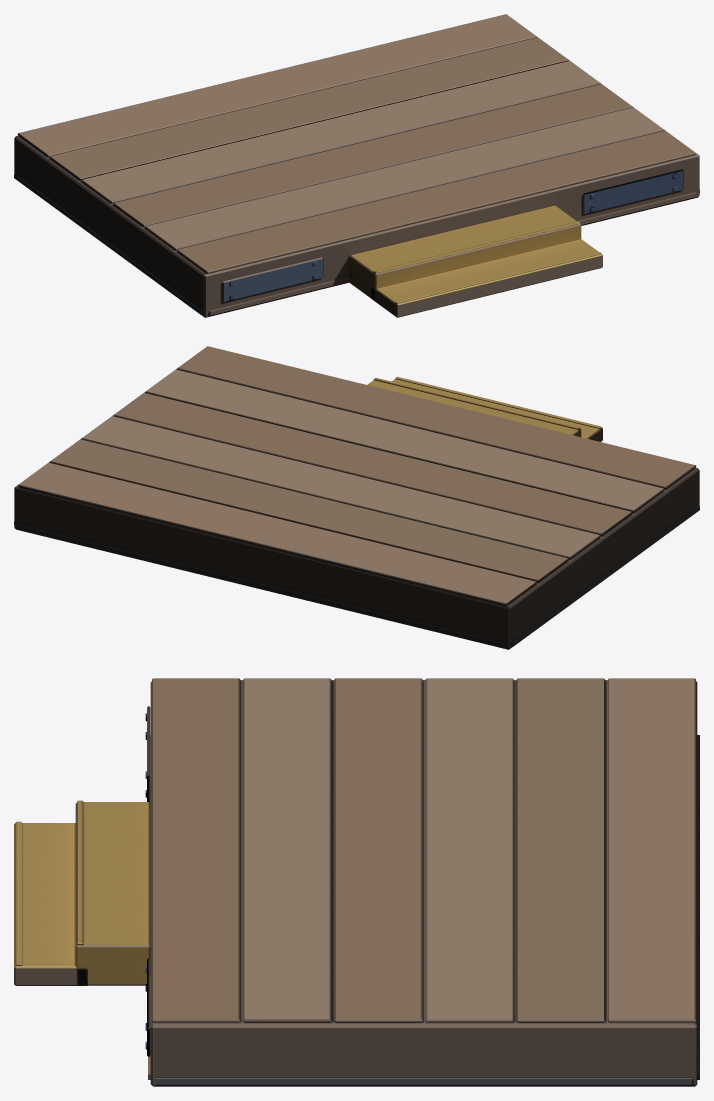
The model's file is 0-20261016-1900-ev031-r06-stage-platform_baked.glb.
3 views of the same model, one above another, from view 1: azimuth 30°, elevation 25°; view 2: azimuth 150°, elevation 25°; view 3: azimuth 270°, elevation 25° (orthographic). The views are drawn at different scales.
Visible parts, largest first — view 1: SW_Stage_Platform; view 2: SW_Stage_Platform; view 3: SW_Stage_Platform.
Part boxes in pixels (x1,y1,x2,y2): SW_Stage_Platform: (14, 14, 699, 317); SW_Stage_Platform: (14, 346, 699, 649); SW_Stage_Platform: (14, 678, 699, 1086).
Size of the model in its own units: 6.04 by 0.528 by 5.02.
Materials: 1 (1 with a texture image).
